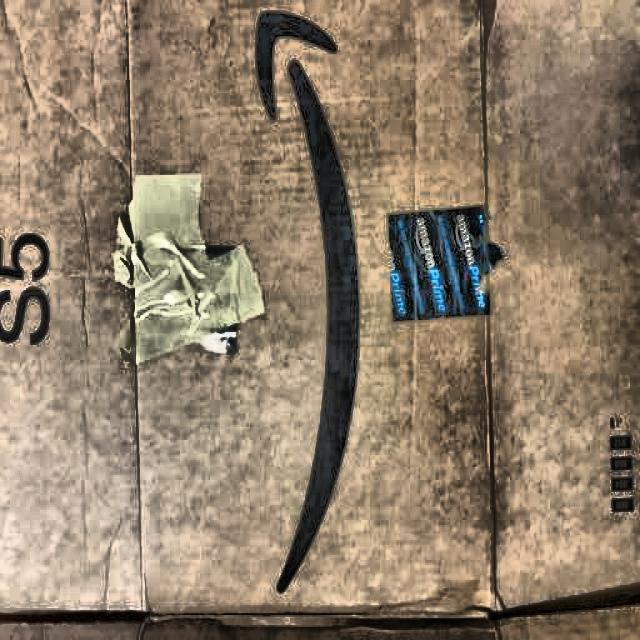cardboard: (0, 0, 639, 628)
